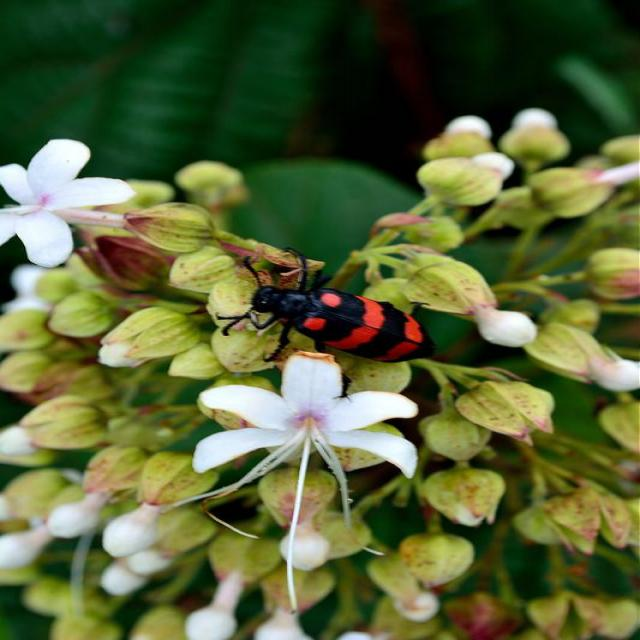BlisterBeetle-Adult-: (210, 243, 437, 372)
